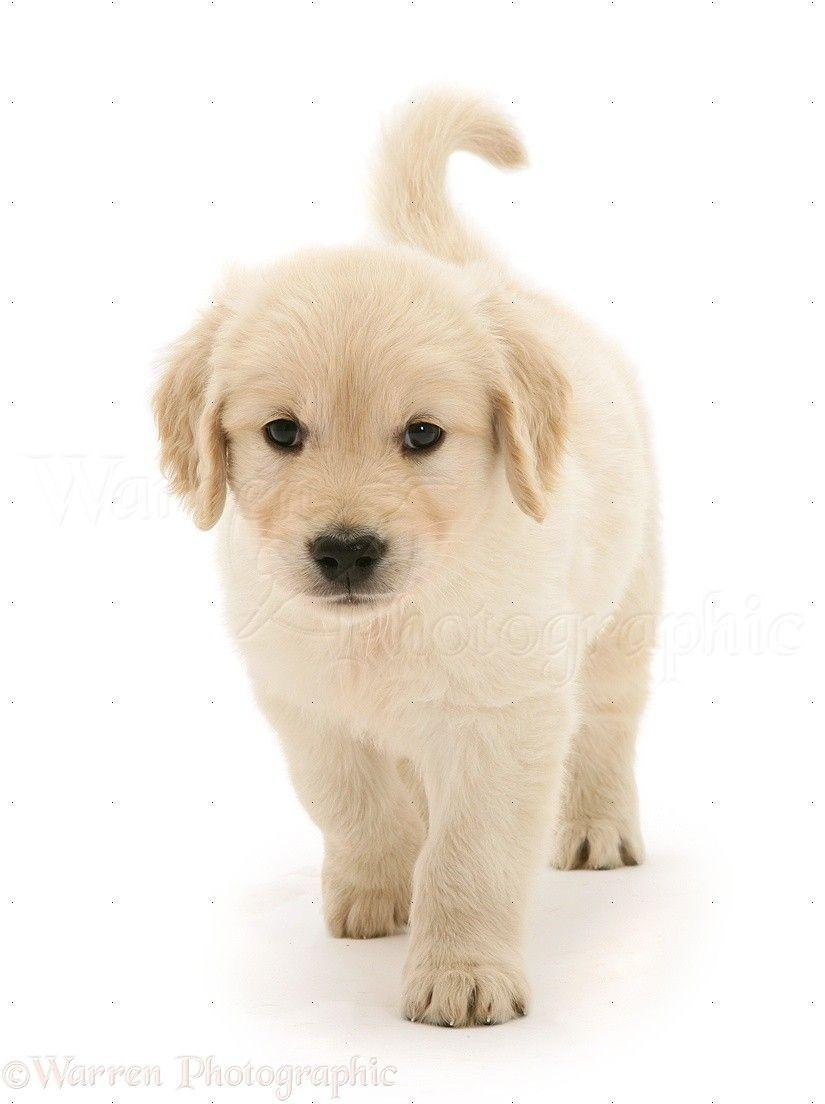puppy-dog: (145, 71, 671, 1032)
